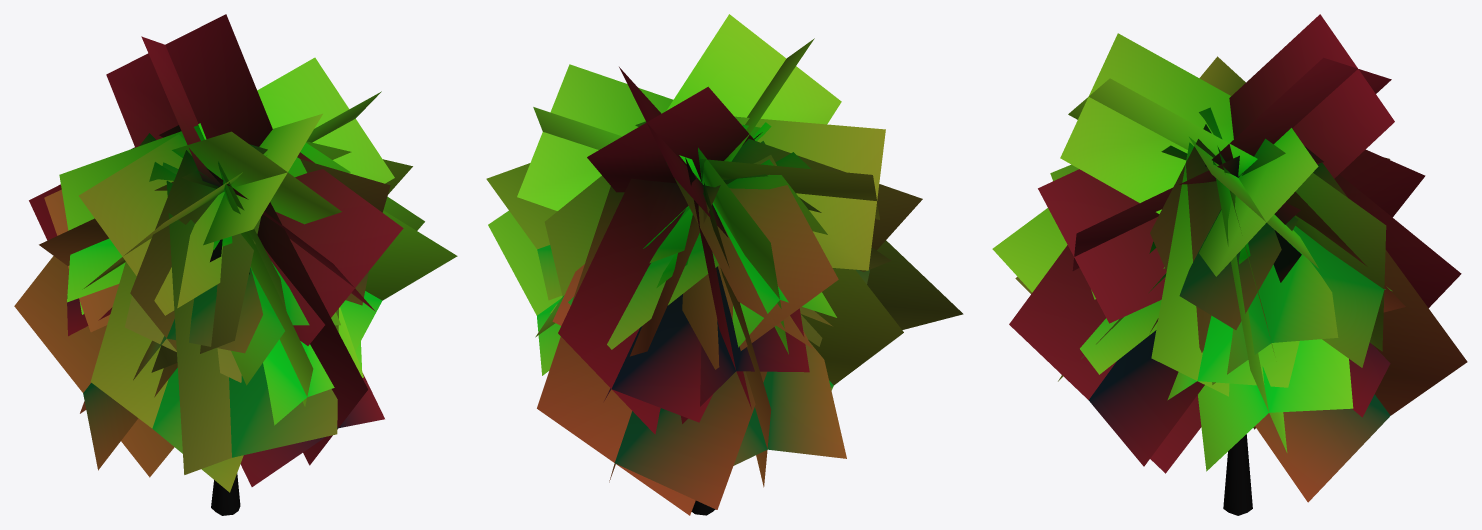
Rendered from Super_11_11.fbx.
The picture shows the model from 3 angles, left to right: view 1: azimuth 30°, elevation 25°; view 2: azimuth 150°, elevation 25°; view 3: azimuth 270°, elevation 25°; orthographic projection. The views are drawn at different scales.
Visible parts, largest first — view 1: Super_11_11; view 2: Super_11_11; view 3: Super_11_11.
Part boxes in pixels (x1,y1,x2,y2): Super_11_11: (14, 14, 457, 515); Super_11_11: (486, 14, 963, 515); Super_11_11: (992, 14, 1467, 515).
Size of the model in its own units: 1352 by 1581 by 1443.
